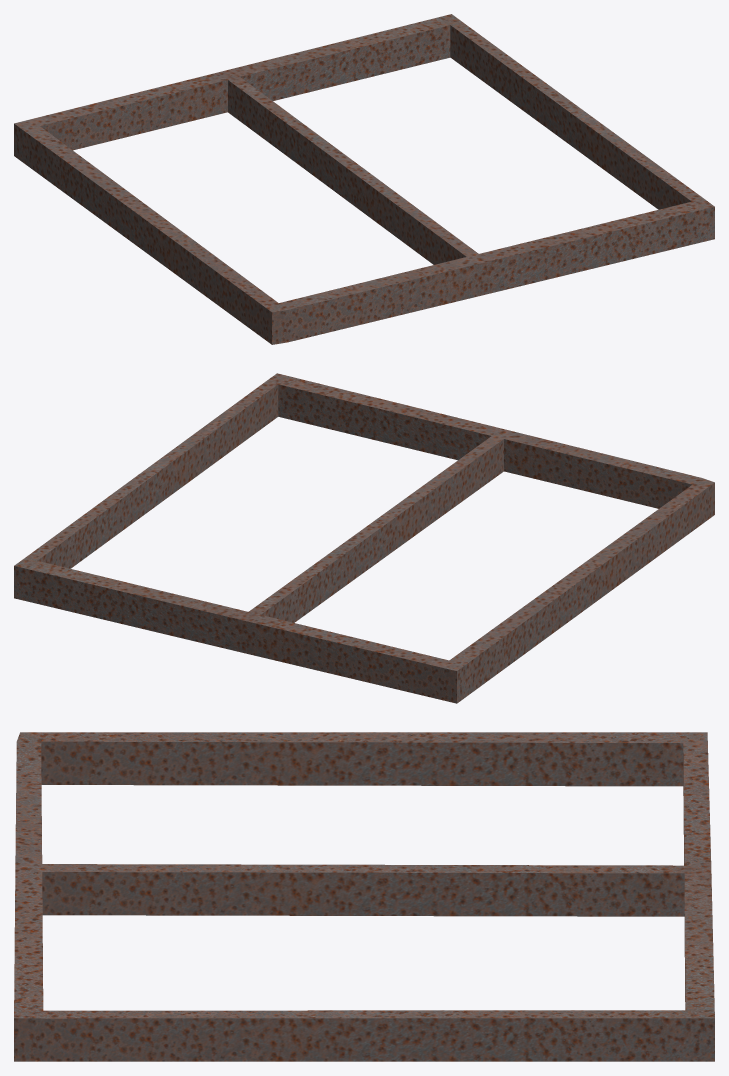
Rendered from SM_NeoLD_10_Metal_00.fbx.
The picture shows the model from 3 angles, top to bottom: view 1: azimuth 30°, elevation 25°; view 2: azimuth 150°, elevation 25°; view 3: azimuth 270°, elevation 25°; orthographic projection. The views are drawn at different scales.
Visible parts, largest first — view 1: SM_NeoLD_10_Metal_00; view 2: SM_NeoLD_10_Metal_00; view 3: SM_NeoLD_10_Metal_00.
Boxes of the visible parts, box(x1,y1,x2,y2) form: SM_NeoLD_10_Metal_00: box(14, 14, 714, 344); SM_NeoLD_10_Metal_00: box(14, 373, 714, 703); SM_NeoLD_10_Metal_00: box(14, 732, 714, 1061).
Size of the model in its own units: 420 by 29.59 by 434.
